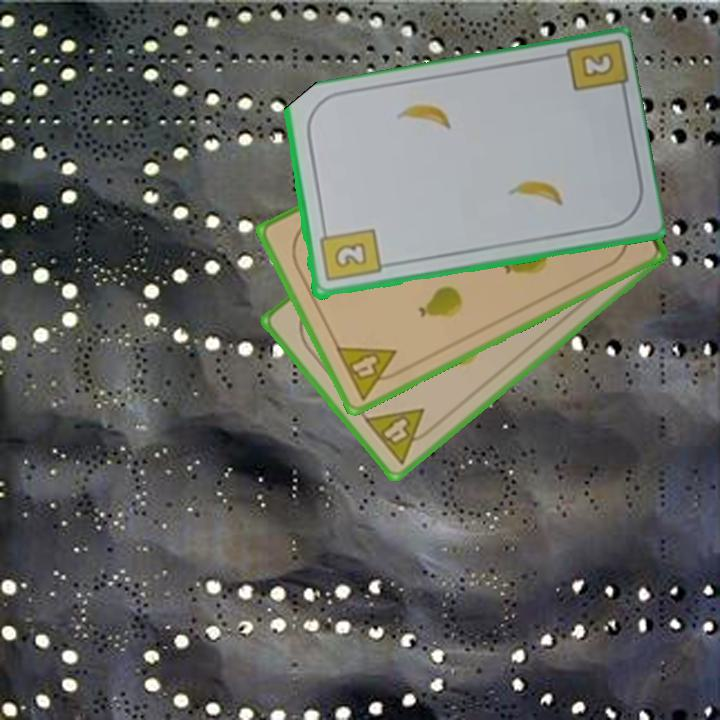2b: (315, 224, 383, 285), (576, 49, 617, 81)
4p: (360, 404, 440, 468), (332, 342, 408, 403)
